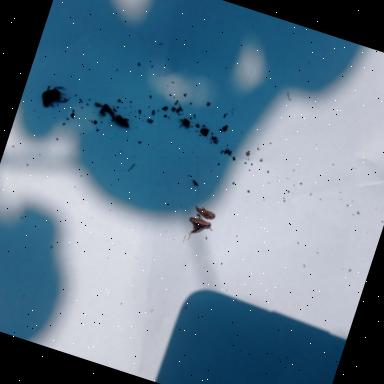pbw: (182, 212, 215, 246), (192, 204, 216, 220)
